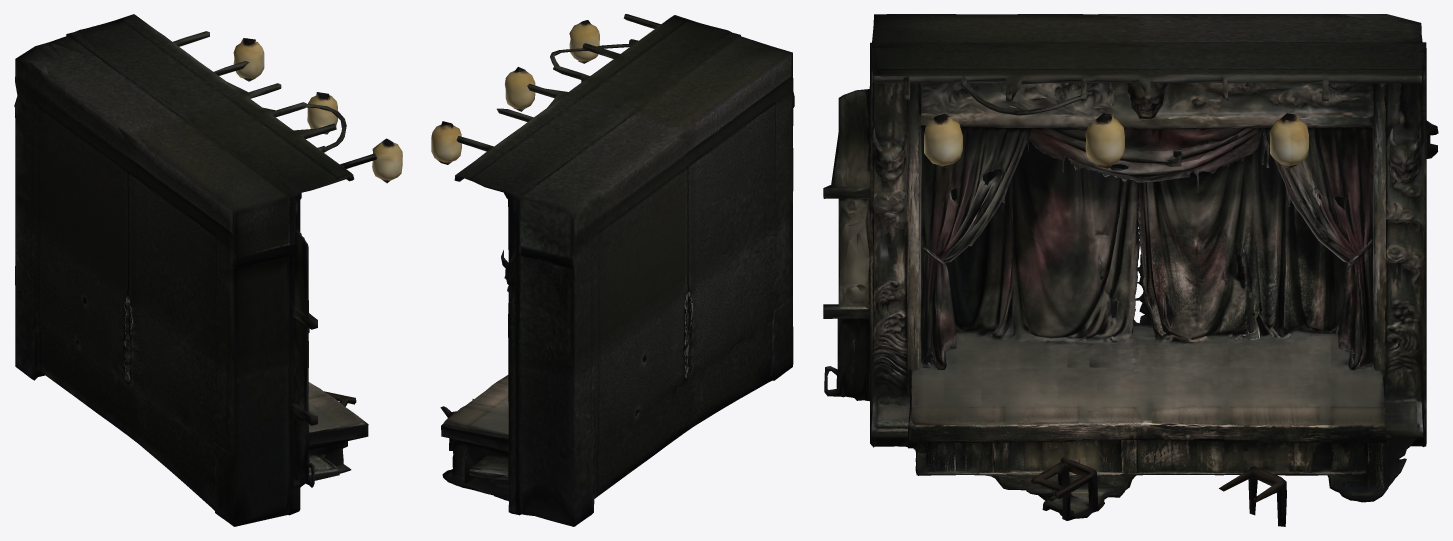
File: Caberet.glb
3 views of the same model, side by side, from view 1: azimuth 30°, elevation 25°; view 2: azimuth 150°, elevation 25°; view 3: azimuth 270°, elevation 25° (orthographic). The views are drawn at different scales.
Visible parts, largest first — view 1: tripo_part_2, tripo_part_19, tripo_part_6, tripo_part_8, tripo_part_9, tripo_part_5, tripo_part_1, tripo_part_12, tripo_part_10, tripo_part_14, tripo_part_15, tripo_part_16; view 2: tripo_part_5, tripo_part_2, tripo_part_19, tripo_part_8, tripo_part_9, tripo_part_1, tripo_part_12, tripo_part_6, tripo_part_15, tripo_part_16, tripo_part_14; view 3: tripo_part_1, tripo_part_2, tripo_part_0, tripo_part_8, tripo_part_5, tripo_part_6, tripo_part_4, tripo_part_17, tripo_part_10, tripo_part_18, tripo_part_3, tripo_part_7 (+9 smaller).
Boxes of the visible parts, box(x1,y1,x2,y2) form: tripo_part_2: box(19, 42, 195, 391); tripo_part_19: box(118, 113, 299, 363); tripo_part_6: box(209, 194, 339, 526); tripo_part_8: box(73, 14, 376, 199); tripo_part_9: box(117, 208, 227, 448); tripo_part_5: box(14, 32, 101, 380); tripo_part_1: box(34, 318, 368, 457); tripo_part_12: box(109, 389, 351, 510); tripo_part_10: box(258, 229, 317, 487); tripo_part_14: box(372, 138, 402, 183); tripo_part_15: box(233, 38, 264, 81); tripo_part_16: box(307, 92, 337, 134); tripo_part_5: box(469, 172, 609, 526); tripo_part_2: box(533, 103, 707, 448); tripo_part_19: box(628, 33, 794, 214); tripo_part_8: box(454, 14, 738, 198); tripo_part_9: box(677, 161, 787, 386); tripo_part_1: box(441, 375, 701, 501); tripo_part_12: box(666, 318, 774, 435); tripo_part_6: box(769, 196, 793, 380); tripo_part_15: box(431, 121, 461, 164); tripo_part_16: box(504, 67, 535, 111); tripo_part_14: box(569, 20, 599, 63); tripo_part_1: box(908, 357, 1418, 505); tripo_part_2: box(1091, 14, 1419, 370); tripo_part_0: box(945, 141, 1141, 360); tripo_part_8: box(870, 42, 1425, 115); tripo_part_5: box(1337, 14, 1438, 457); tripo_part_6: box(825, 52, 940, 448); tripo_part_4: box(1262, 127, 1373, 370); tripo_part_17: box(921, 127, 1031, 369); tripo_part_10: box(823, 89, 869, 400); tripo_part_18: box(1119, 82, 1373, 129); tripo_part_3: box(1025, 127, 1269, 192); tripo_part_7: box(921, 82, 1244, 145).
Bounding box in the file's own units: 0.4652 × 0.733 × 0.981.
Materials: 1 (1 with a texture image).
